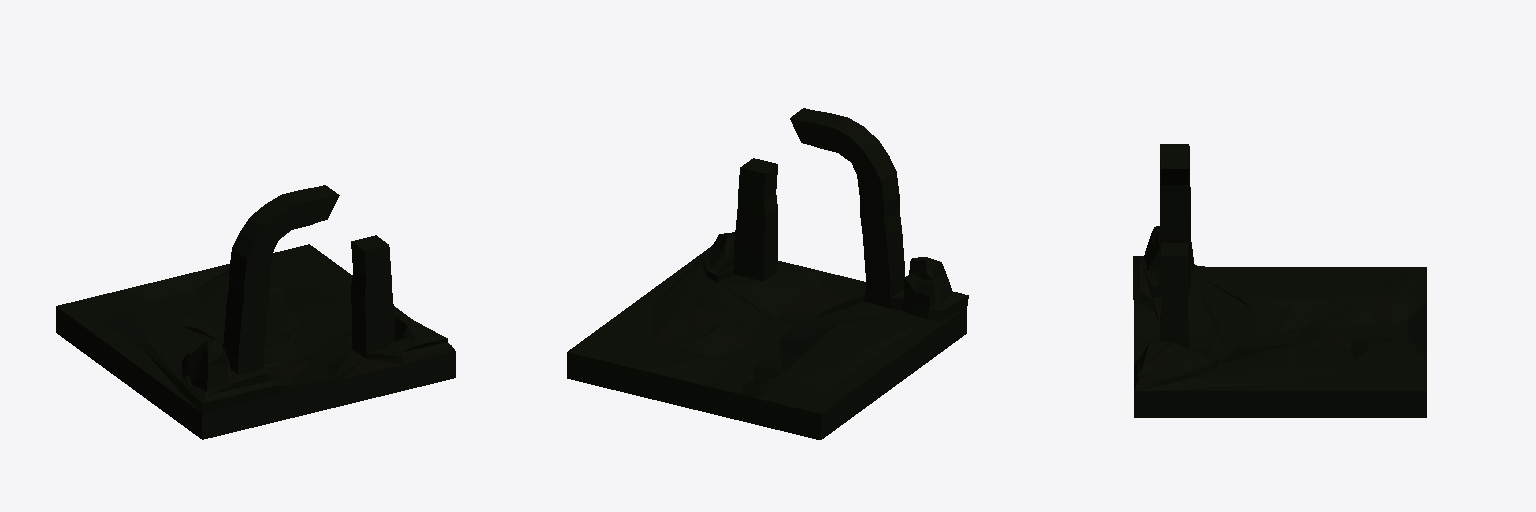
File: MysticArch1.obj
3 views of the same model, side by side, from view 1: azimuth 30°, elevation 25°; view 2: azimuth 150°, elevation 25°; view 3: azimuth 270°, elevation 25° (orthographic).
Parts seen in each view (by area): view 1: Cube; view 2: Cube; view 3: Cube.
Boxes of the visible parts, <box> form: Cube: <box>56,185,455,439</box>; Cube: <box>567,108,968,439</box>; Cube: <box>1133,144,1426,417</box>.
Size of the model in its own units: 2.01 by 1.5 by 2.01.